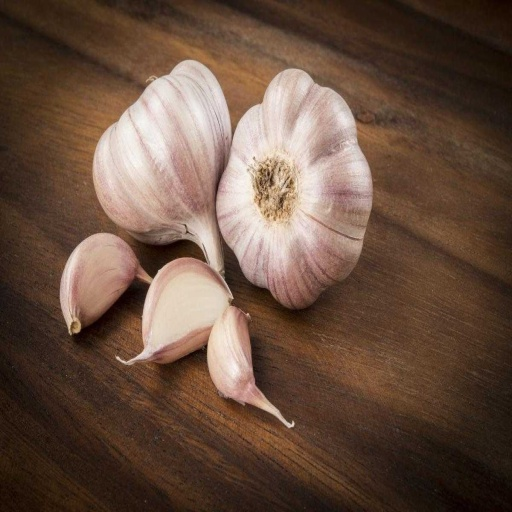Knoblauch: (214, 67, 373, 310), (91, 59, 231, 278)
